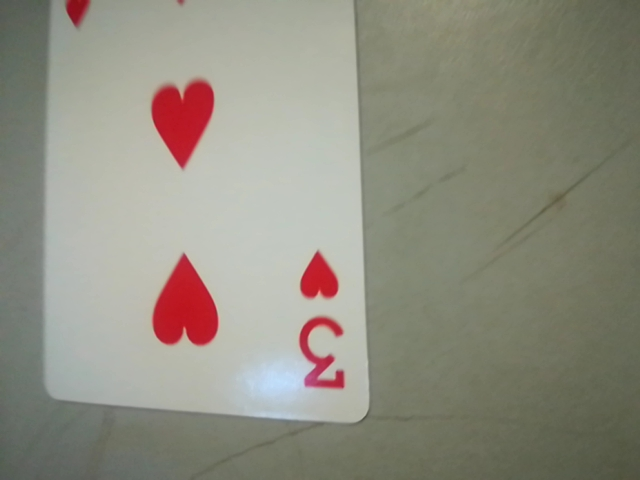hx 3: (280, 231, 362, 404)
